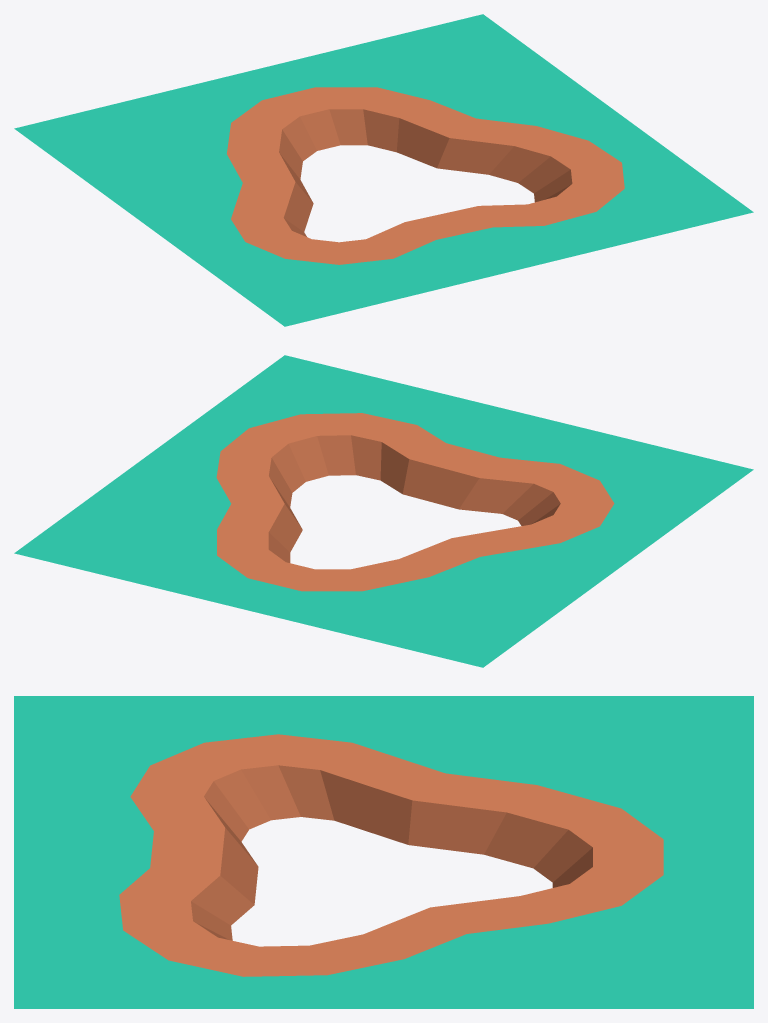
File: beachsingle.obj
3 renders of one model, top to bottom at view 1: azimuth 30°, elevation 25°; view 2: azimuth 150°, elevation 25°; view 3: azimuth 270°, elevation 25°, orthographic. The views are drawn at different scales.
Visible parts, largest first — view 1: ground_riverTile; view 2: ground_riverTile; view 3: ground_riverTile.
Part boxes in pixels (x1,y1,x2,y2): ground_riverTile: [14, 14, 753, 326]; ground_riverTile: [14, 355, 753, 667]; ground_riverTile: [14, 696, 753, 1008].
Size of the model in its own units: 1 by 0.05 by 1.
